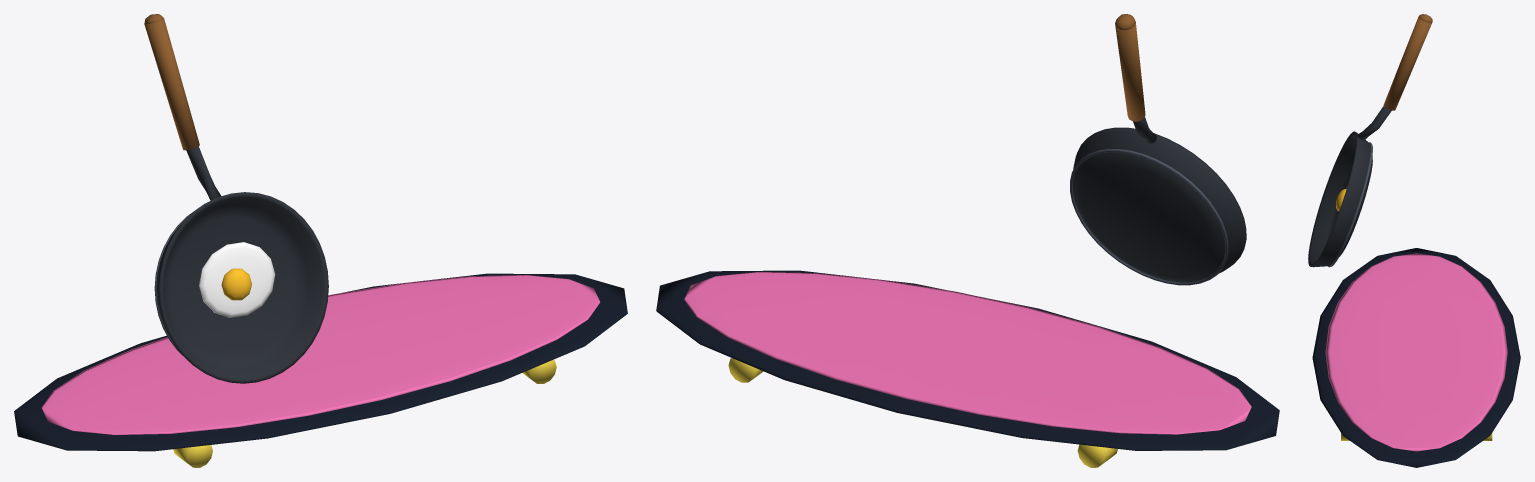
The model's file is props-y.glb.
3 renders of one model, left to right at view 1: azimuth 30°, elevation 25°; view 2: azimuth 150°, elevation 25°; view 3: azimuth 270°, elevation 25°, orthographic. The views are drawn at different scales.
Visible parts, largest first — view 1: y-board, y-pan, y-pan~toss; view 2: y-board, y-pan; view 3: y-board, y-pan.
Boxes of the visible parts, <box> form: y-board: <box>14,273,627,467</box>; y-pan: <box>144,14,328,383</box>; y-pan~toss: <box>199,242,275,317</box>; y-board: <box>656,270,1279,467</box>; y-pan: <box>1070,14,1246,285</box>; y-board: <box>1312,248,1520,467</box>; y-pan: <box>1308,14,1432,267</box>.
Size of the model in its own units: 0.6 by 0.3872 by 0.245.
